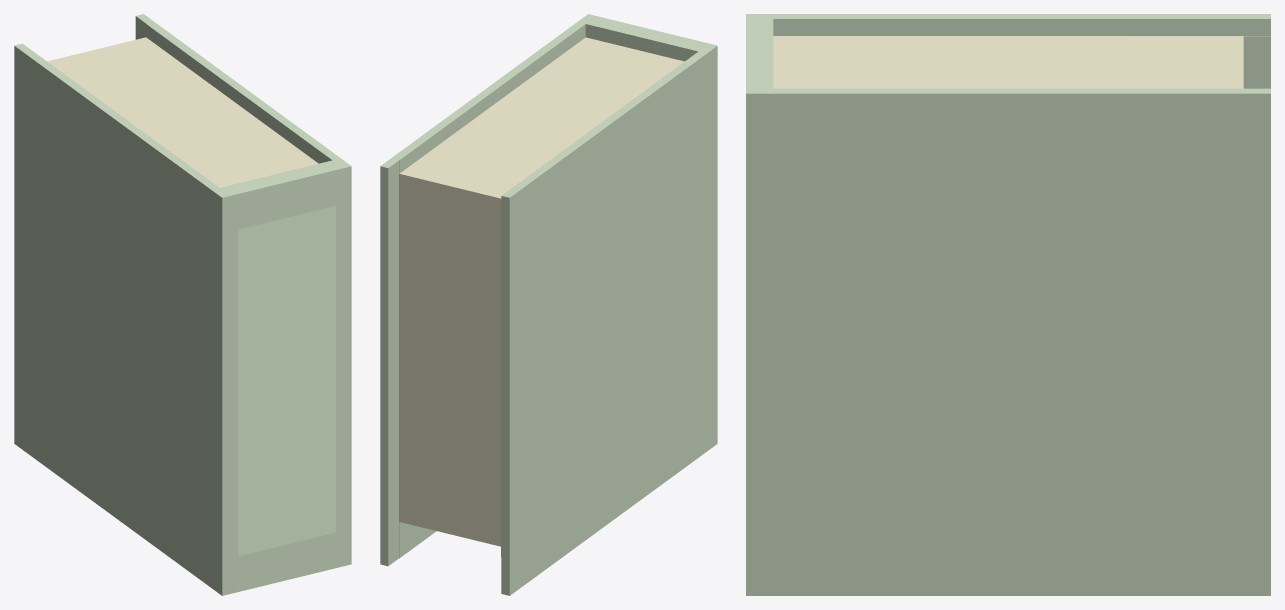
The model's file is book_4.fbx.
3 views of the same model, side by side, from view 1: azimuth 30°, elevation 25°; view 2: azimuth 150°, elevation 25°; view 3: azimuth 270°, elevation 25° (orthographic). The views are drawn at different scales.
Parts seen in each view (by area): view 1: Boole_1; view 2: Boole_1; view 3: Boole_1.
Boxes of the visible parts, x1,y1,x2,y2 form: Boole_1: [14, 14, 351, 595]; Boole_1: [380, 14, 717, 595]; Boole_1: [746, 14, 1270, 595].
Size of the model in its own units: 3.16 by 9.27 by 8.78.
